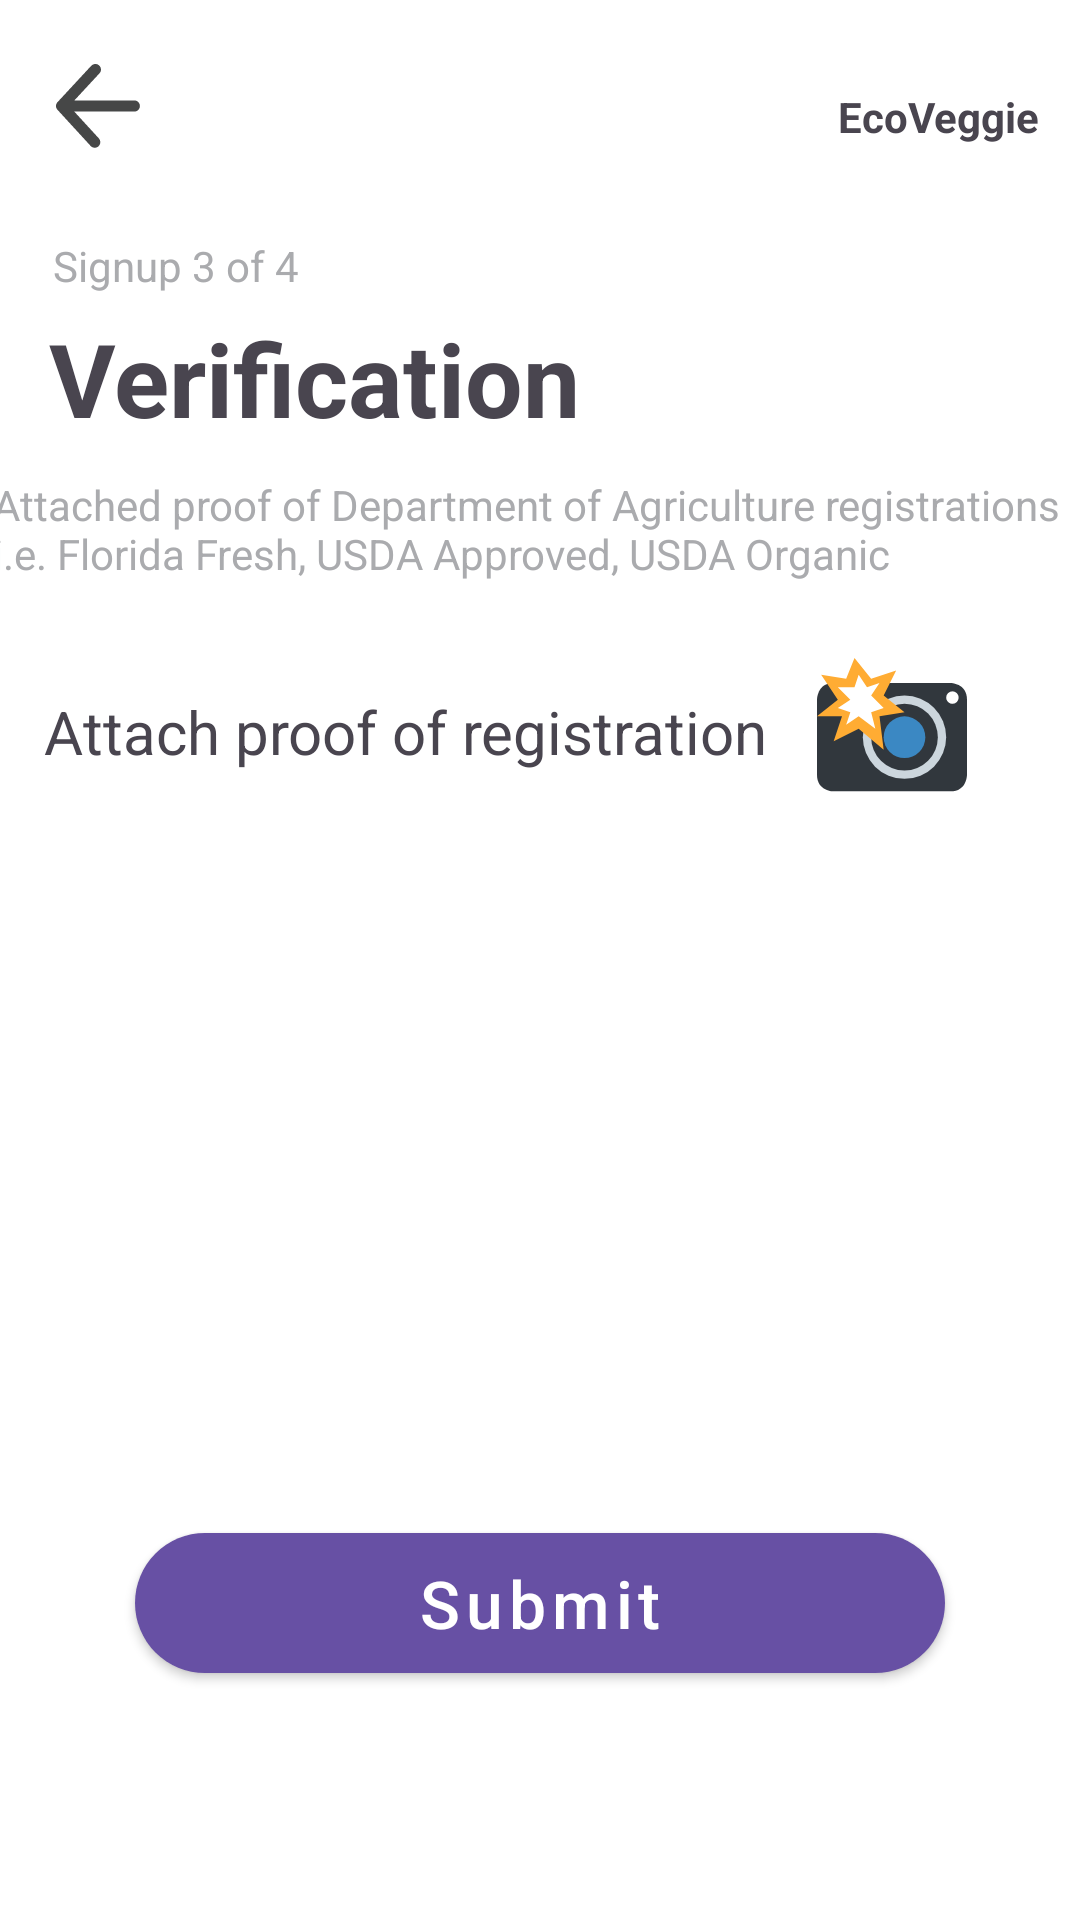

Locate icon controls on the screen. Image size 1080*1920, boxes as {"x1": x1, "y1": y1, "x2": x2, "y2": y2}.
back: {"x1": 56, "y1": 64, "x2": 140, "y2": 148}
camera: {"x1": 817, "y1": 658, "x2": 967, "y2": 792}
